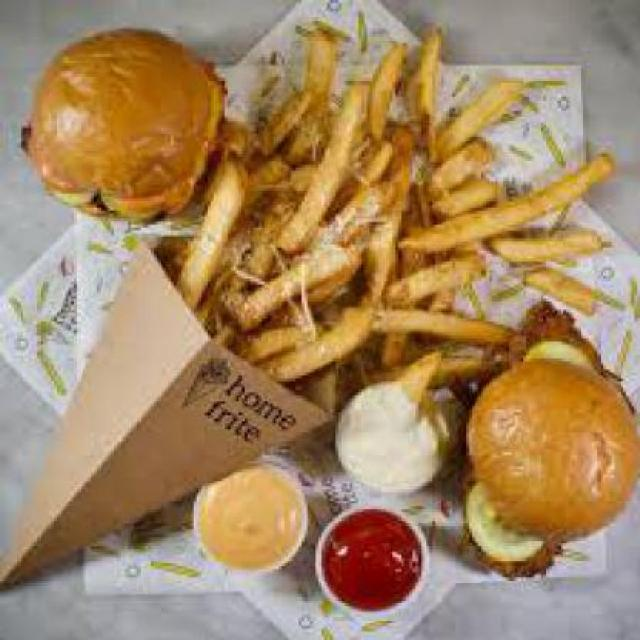french fries: (208, 21, 592, 384)
hamburger: (460, 295, 638, 580), (11, 17, 228, 228)
